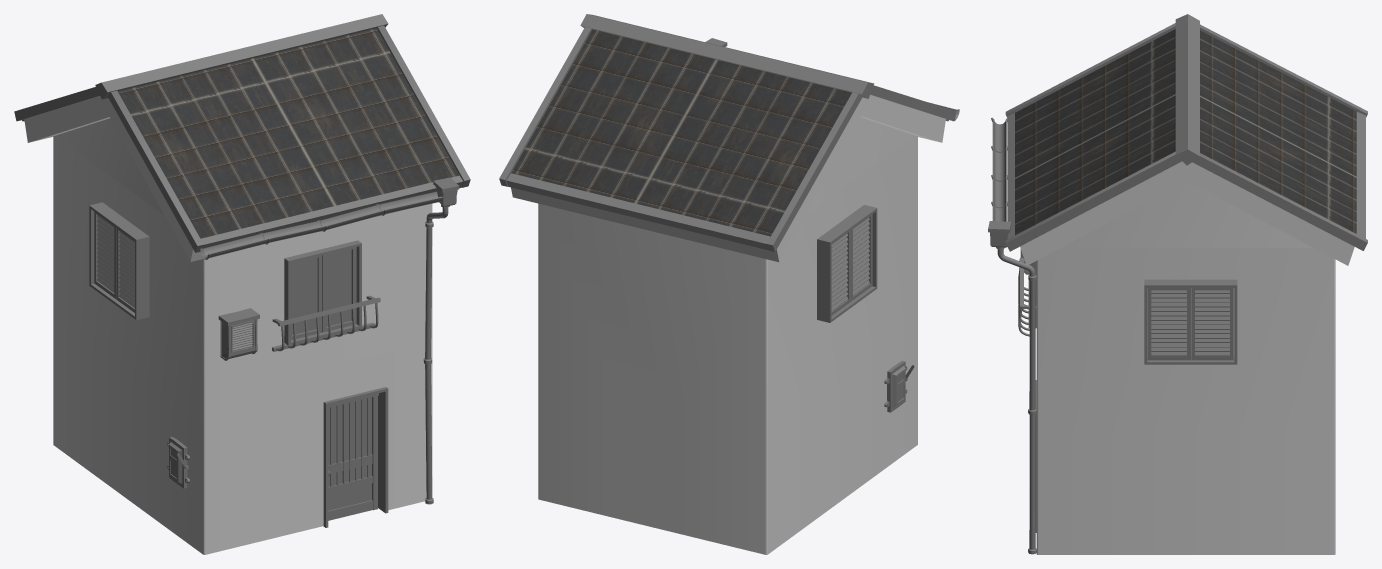
The model's file is SM_house_japan_02.fbx.
The picture shows the model from 3 angles, left to right: view 1: azimuth 30°, elevation 25°; view 2: azimuth 150°, elevation 25°; view 3: azimuth 270°, elevation 25°; orthographic projection.
Visible parts, largest first — view 1: Object32346; view 2: Object32346; view 3: Object32346.
Boxes of the visible parts, bbox=[...] form: Object32346: bbox=[14, 14, 470, 554]; Object32346: bbox=[499, 14, 959, 554]; Object32346: bbox=[988, 14, 1367, 554].
Size of the model in its own units: 243 by 350 by 288.
